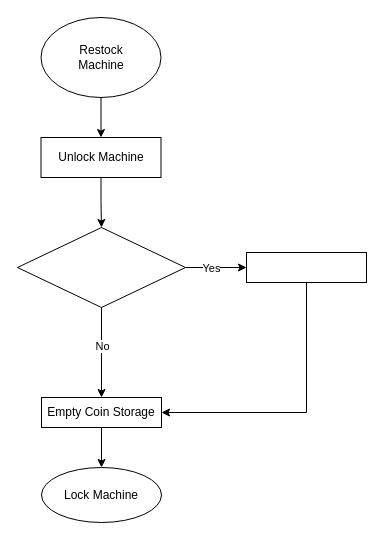
The diagram is 384 pixels wide and 540 high, and some of its shapes have lost their labels. The shapes that lost their labels are listed below. From the top down, each one's centre as x and y in pixels, then its label:
At (x=101, y=267): "Do snacks need restocking?".
At (x=306, y=267): "Restock Snacks".
